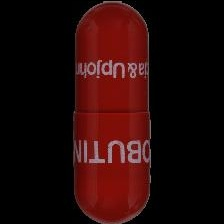55695-010: (0, 0, 224, 224)
